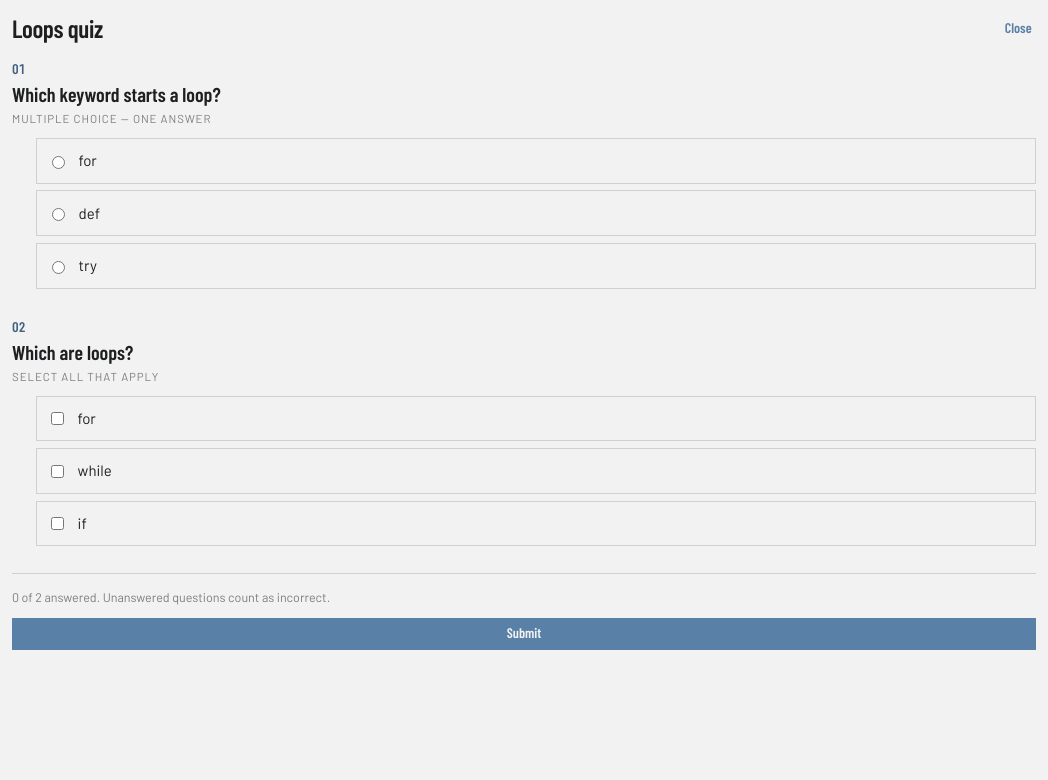
Test: numbers the questions, labels their type, and counts answers
expect the text "01" is shown: met, box [12,60,25,77]
expect the text "Multiple choice — one answer" is shown: met, box [12,110,221,128]
Click the radio button labelled "for".
click(59, 162)  # box [52,156,65,169]
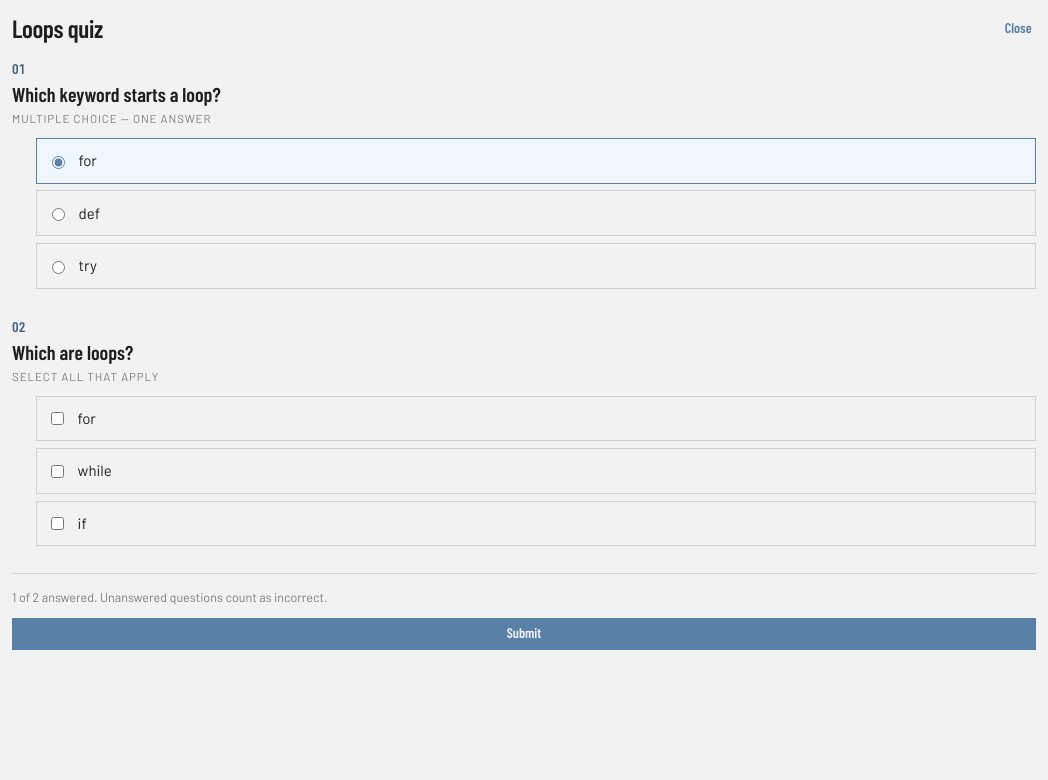
expect the text "1 of 2 answered. Unanswered questions count as incorrect." is shown: met, box [12,589,327,605]
